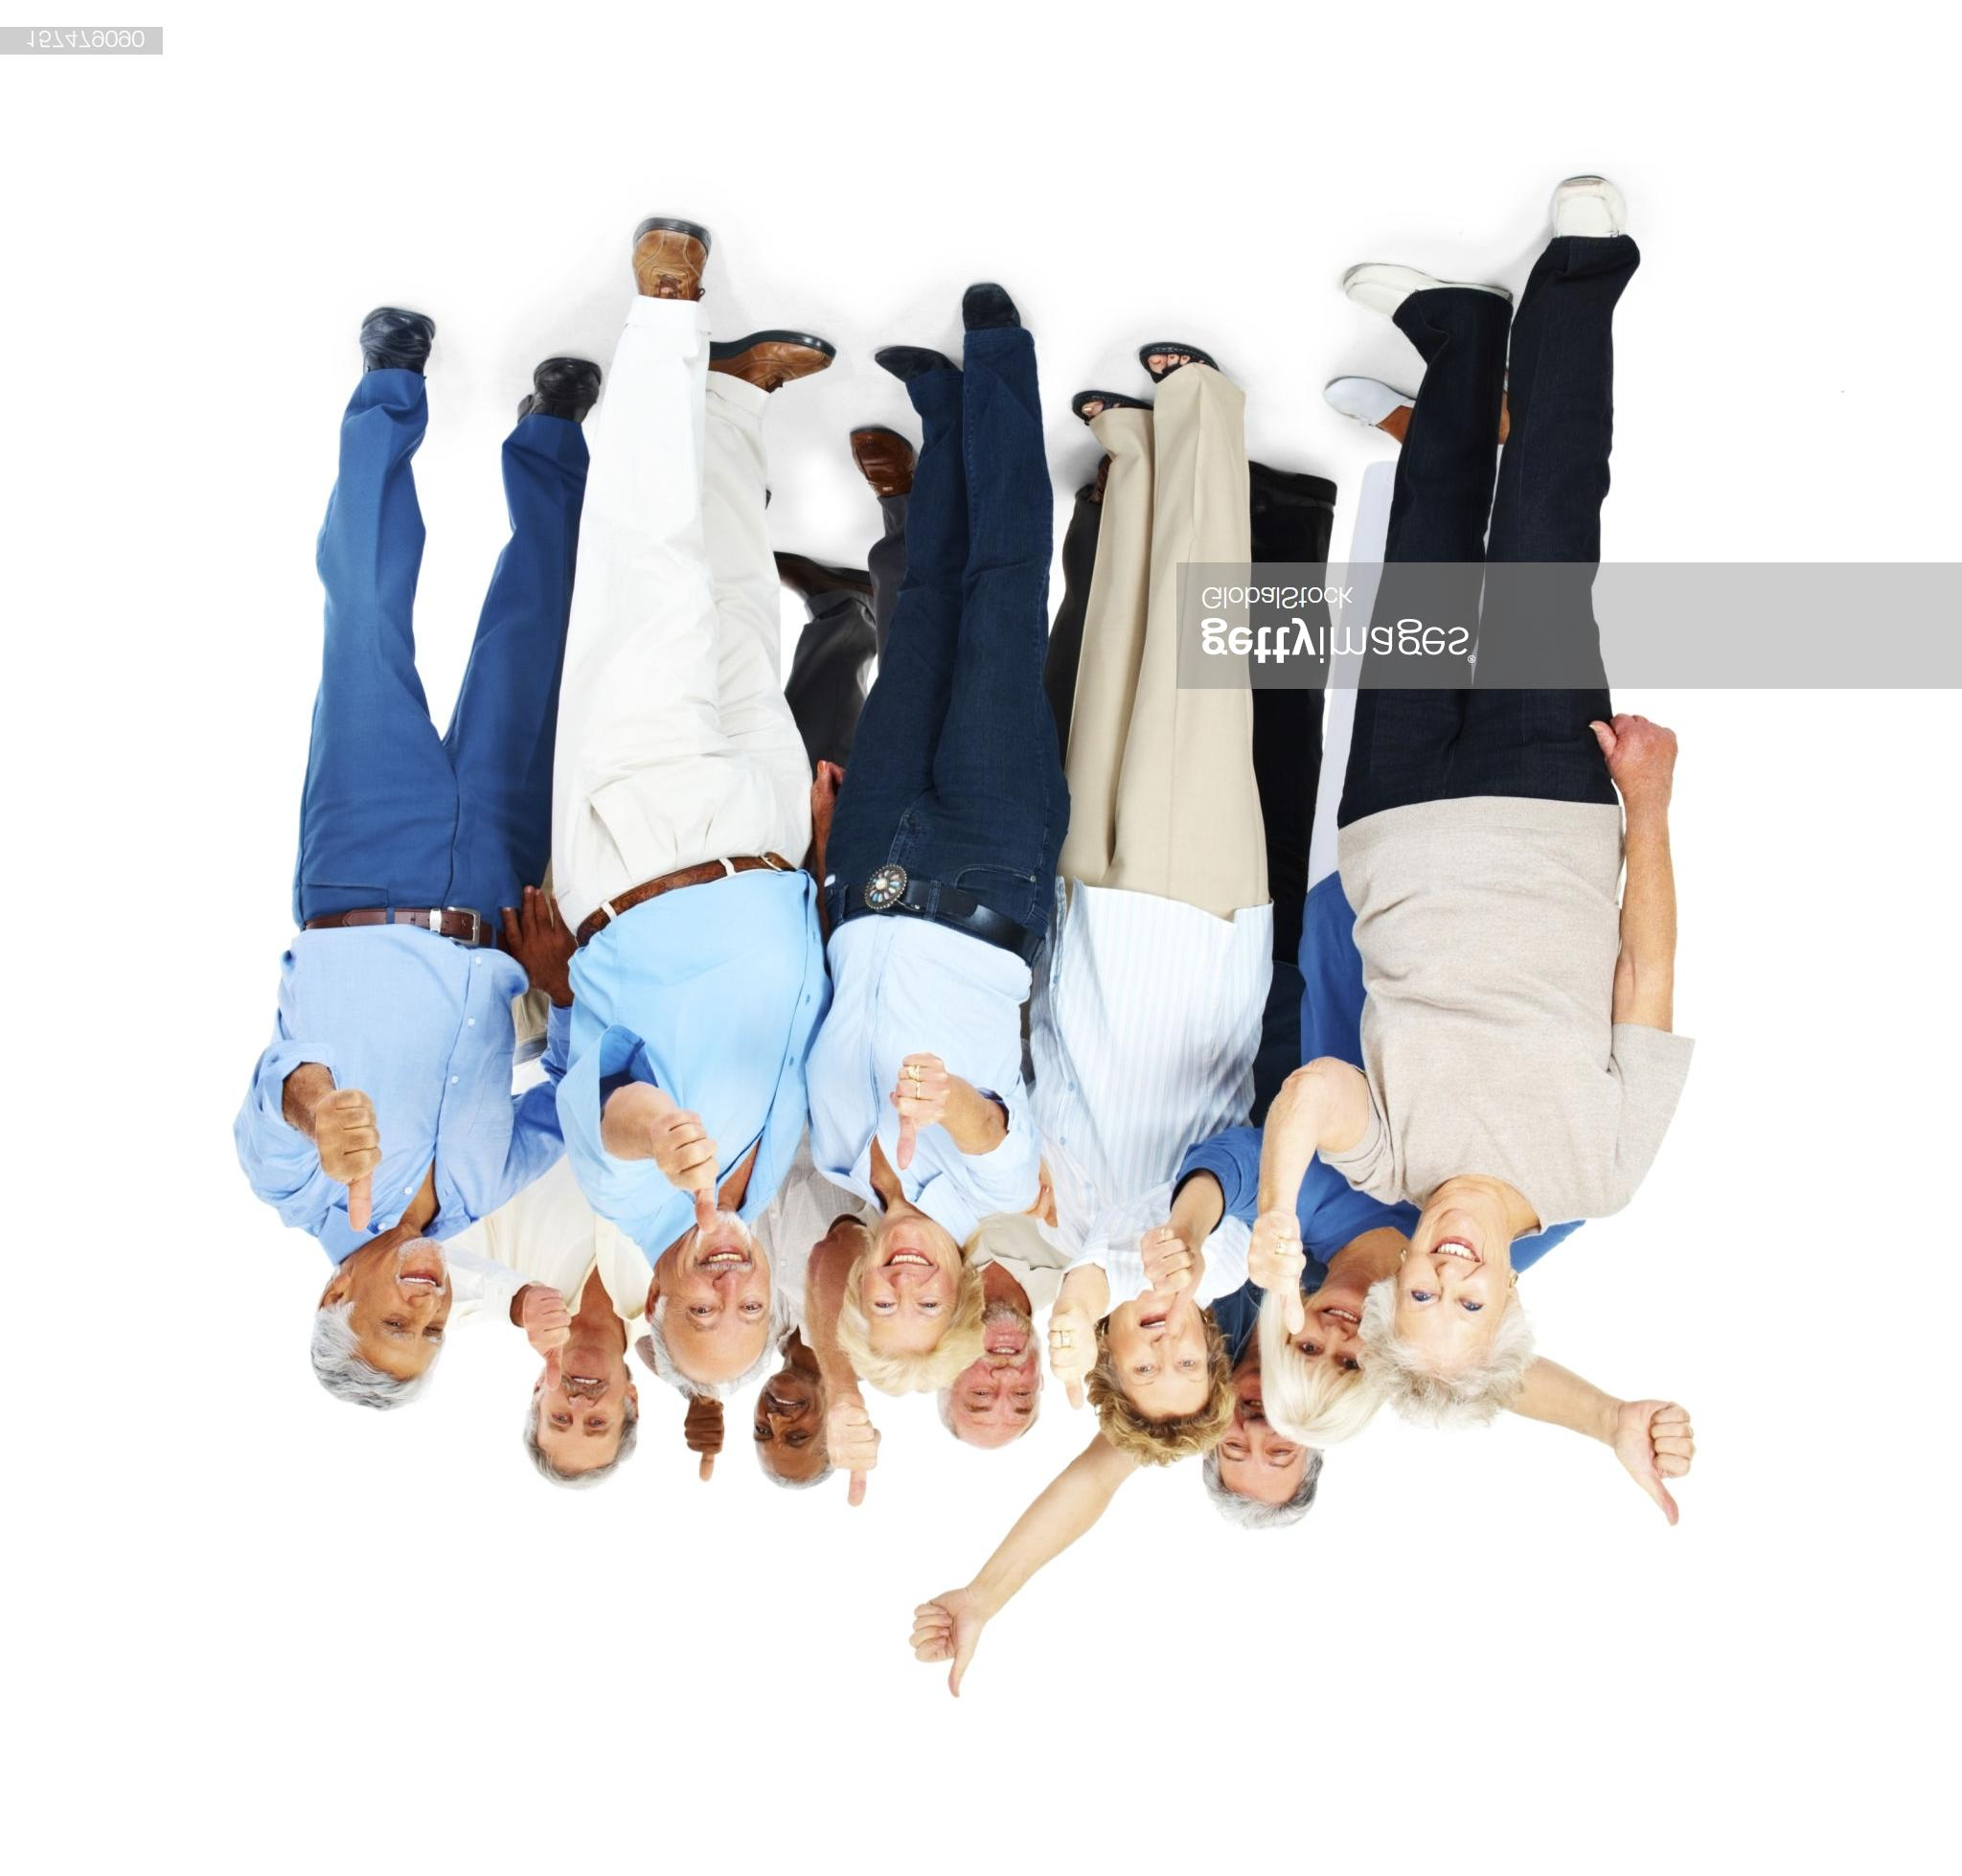thumbsdown: (314, 1088, 382, 1231), (650, 1111, 718, 1235), (1634, 1400, 1697, 1527), (1246, 1210, 1307, 1335), (890, 1051, 951, 1170), (1139, 1226, 1195, 1335), (827, 1401, 883, 1506), (907, 1603, 963, 1699), (1048, 1310, 1098, 1410), (522, 1286, 569, 1391), (683, 1401, 723, 1482)
